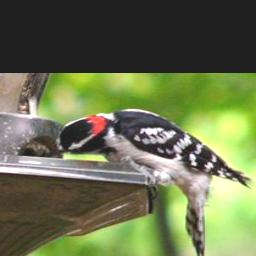Woodpecker: (45, 107, 256, 256)
